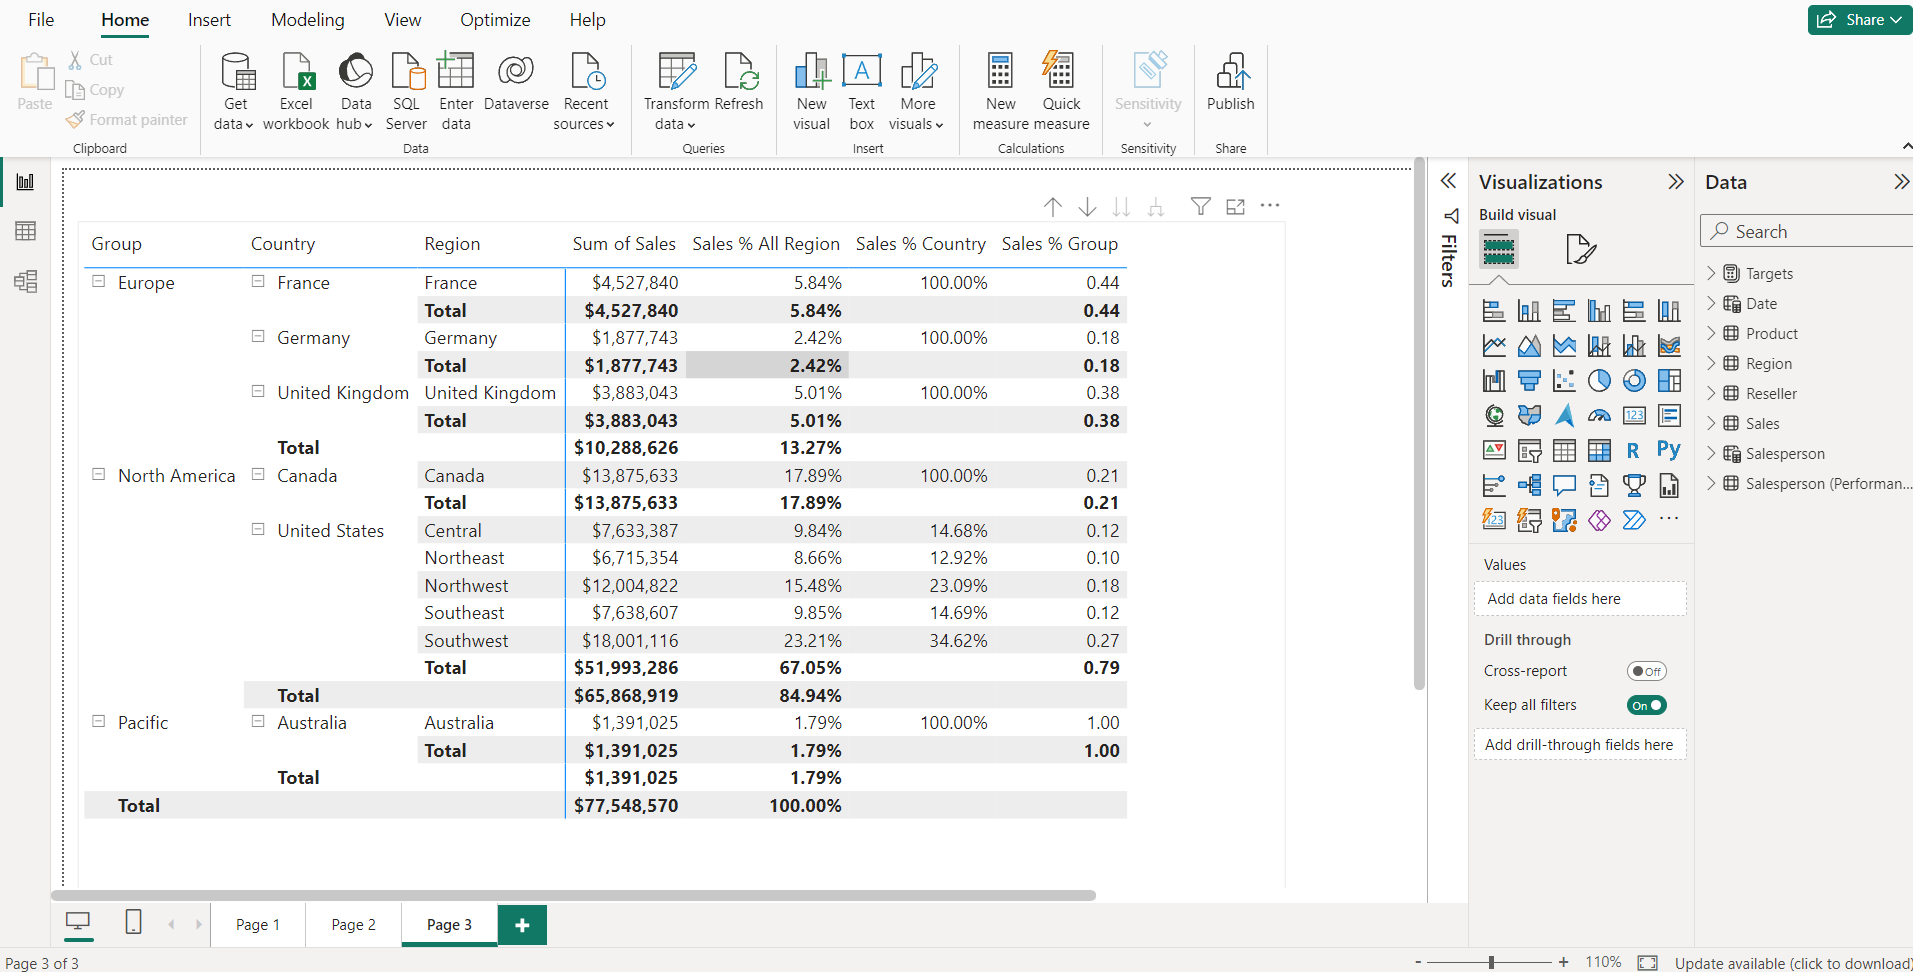

Layout of this report page (visuals, bound fields, positions):
{"tool":"powerbi","page":{"name":"Page 3","canvas":[1280,720],"ordinal":2},"visuals":[{"type":"pivotTable","fields":{"Rows":["Region.Regions.Group","Region.Regions.Country","Region.Regions.Region"],"Values":["Sum(Sales.Sales)","Sales.Sales All Region","Sales.Sales % Country","Sales.Sales % Group"]},"box":[10,37,879,520],"z":0}]}

Visuals, with their boxes on the page's 1280x720 design canvas (x1, y1, x2, y2). These are canvas units, not pixel positions in the 1913x972 screenshot, which may show the page scaled, cropped or inside an application window:
pivotTable - Region.Regions.Group x Region.Regions.Country: 10/37/889/557
